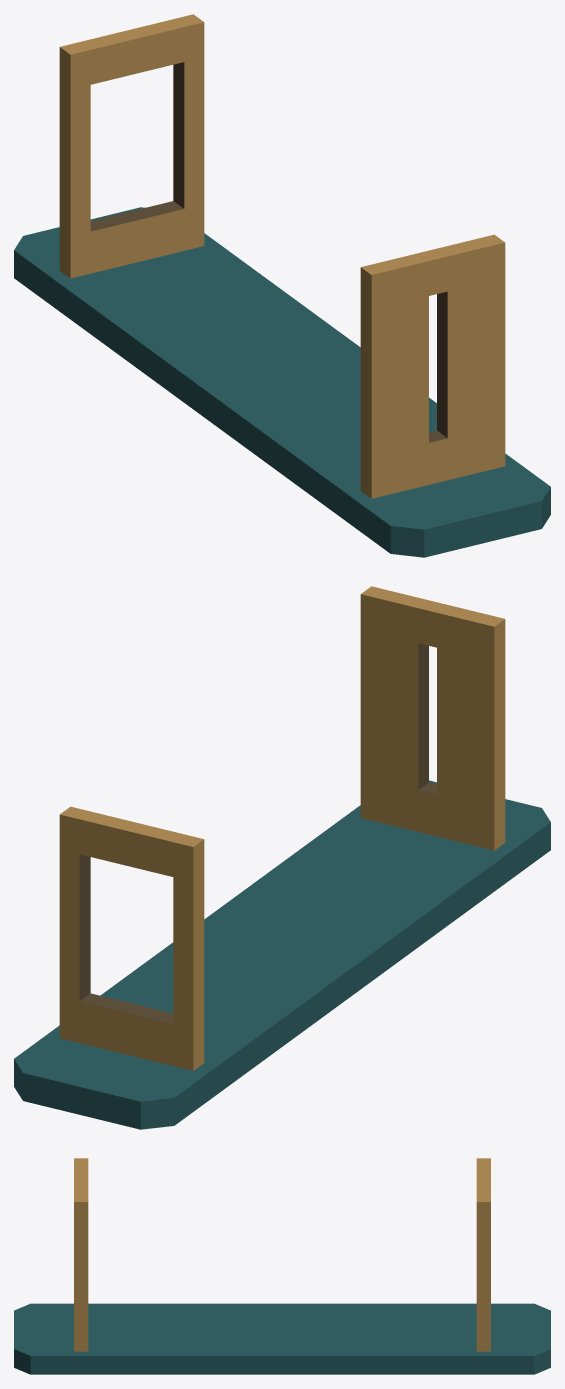
3 views of the same model, one above another, from view 1: azimuth 30°, elevation 25°; view 2: azimuth 150°, elevation 25°; view 3: azimuth 270°, elevation 25° (orthographic). The views are drawn at different scales.
Parts seen in each view (by area): view 1: ChamferEndedUngradedStraightedge, NarrowVerticalSlotVane, BroadRectangularWindowVane; view 2: ChamferEndedUngradedStraightedge, NarrowVerticalSlotVane, BroadRectangularWindowVane; view 3: ChamferEndedUngradedStraightedge, BroadRectangularWindowVane, NarrowVerticalSlotVane.
Boxes of the visible parts, left/top/right/bottom form: ChamferEndedUngradedStraightedge: left=14, top=207, right=550, bottom=557; NarrowVerticalSlotVane: left=360, top=234, right=505, bottom=498; BroadRectangularWindowVane: left=59, top=14, right=204, bottom=278; ChamferEndedUngradedStraightedge: left=14, top=780, right=550, bottom=1129; NarrowVerticalSlotVane: left=360, top=586, right=505, bottom=850; BroadRectangularWindowVane: left=59, top=806, right=204, bottom=1070; ChamferEndedUngradedStraightedge: left=14, top=1303, right=550, bottom=1374; BroadRectangularWindowVane: left=476, top=1158, right=490, bottom=1351; NarrowVerticalSlotVane: left=74, top=1158, right=88, bottom=1351.
Bounding box in the file's own units: 0.12 × 0.18 × 0.52.
